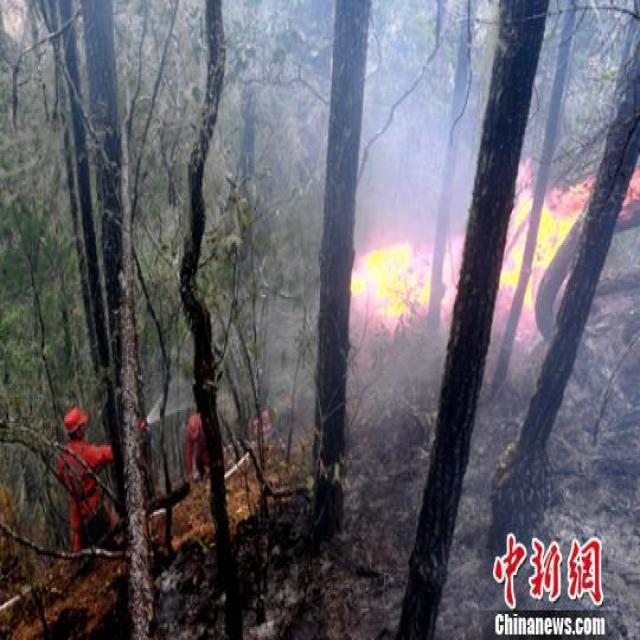fire: (501, 158, 595, 330), (350, 236, 464, 329), (621, 158, 638, 202)
other: (478, 503, 611, 626), (52, 390, 128, 554), (174, 392, 214, 488), (0, 0, 27, 31)
